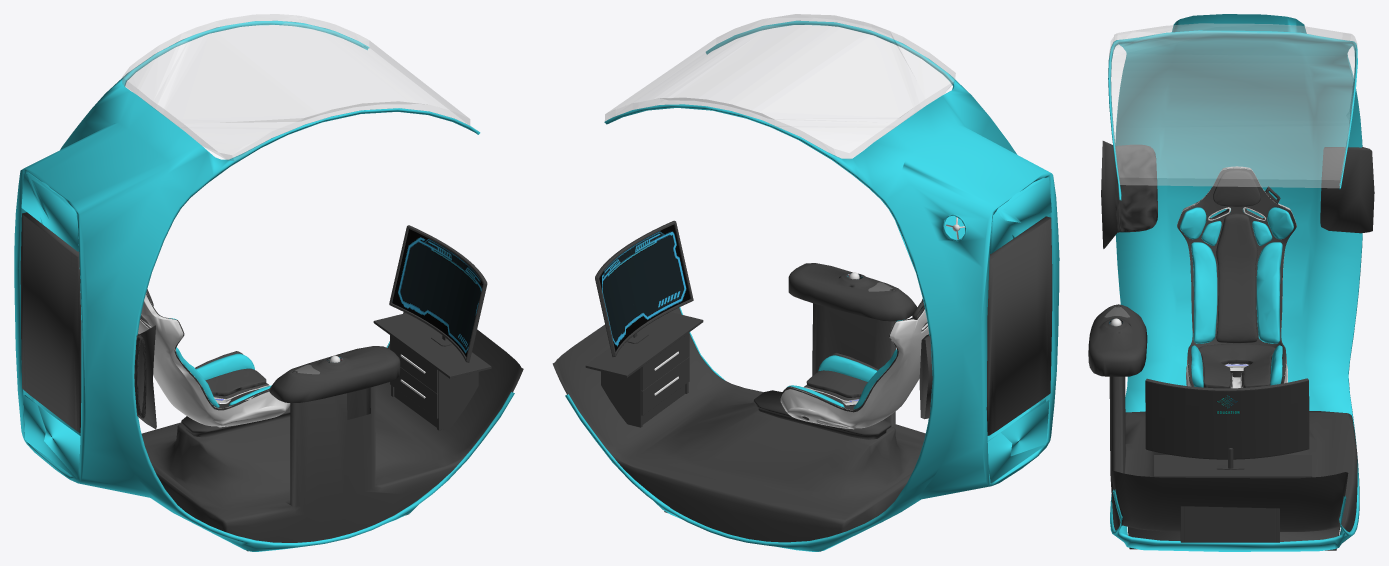
File: cha.glb
3 renders of one model, left to right at view 1: azimuth 30°, elevation 25°; view 2: azimuth 150°, elevation 25°; view 3: azimuth 270°, elevation 25°, orthographic. The views are drawn at different scales.
Parts seen in each view (by area): view 1: Body, Base, Cube, main_Back_lights, Screen, Seat (Carbon Tub, Controller_, Cube.014, Sign_ligt, upper_light, Cube.018, Side bolsters Leg (+6 smaller); view 2: Body, Base, Cube, main_Back_lights, Screen, Seat (Carbon Tub, Controller_, Cube.014, Sign_ligt, upper_light, Cube.016, Chair_iron_holder (+5 smaller); view 3: Body, Cube, Base, Screen, Dorsal Pad, Side bolsters Leg, Door_2_hinge_2, Carbon tub facing, Controller_, Door_1_hinge_2, Cube.029, Cube.014 (+3 smaller).
Part boxes in pixels (x1,y1,x2,y2): Body: [14, 20, 514, 551]; Base: [141, 312, 523, 542]; Cube: [122, 14, 469, 160]; main_Back_lights: [20, 212, 81, 432]; Screen: [389, 225, 487, 362]; Seat (Carbon Tub: [138, 293, 290, 427]; Controller_: [269, 346, 400, 403]; Cube.014: [373, 313, 491, 378]; Sign_ligt: [23, 395, 80, 479]; upper_light: [21, 173, 78, 251]; Cube.018: [437, 370, 478, 430]; Side bolsters Leg: [169, 318, 271, 407]; Body: [565, 20, 1059, 551]; Base: [552, 303, 925, 542]; Cube: [605, 14, 955, 159]; main_Back_lights: [986, 216, 1052, 435]; Screen: [595, 220, 693, 356]; Seat (Carbon Tub: [780, 302, 928, 429]; Controller_: [788, 263, 917, 321]; Cube.014: [585, 312, 703, 377]; Sign_ligt: [987, 399, 1049, 483]; upper_light: [990, 177, 1051, 253]; Cube.016: [601, 368, 642, 427]; Chair_iron_holder: [753, 390, 891, 439]; Body: [1108, 14, 1362, 551]; Cube: [1109, 23, 1356, 187]; Base: [1109, 376, 1357, 532]; Screen: [1145, 378, 1309, 459]; Dorsal Pad: [1198, 170, 1275, 388]; Side bolsters Leg: [1180, 207, 1293, 387]; Door_2_hinge_2: [1320, 147, 1374, 233]; Carbon tub facing: [1177, 168, 1296, 388]; Controller_: [1088, 304, 1147, 376]; Door_1_hinge_2: [1115, 144, 1157, 232]; Cube.029: [1184, 506, 1275, 542]; Cube.014: [1154, 455, 1312, 478].
Size of the model in its own units: 157 by 157 by 88.72.
9 materials, 1 textured.
